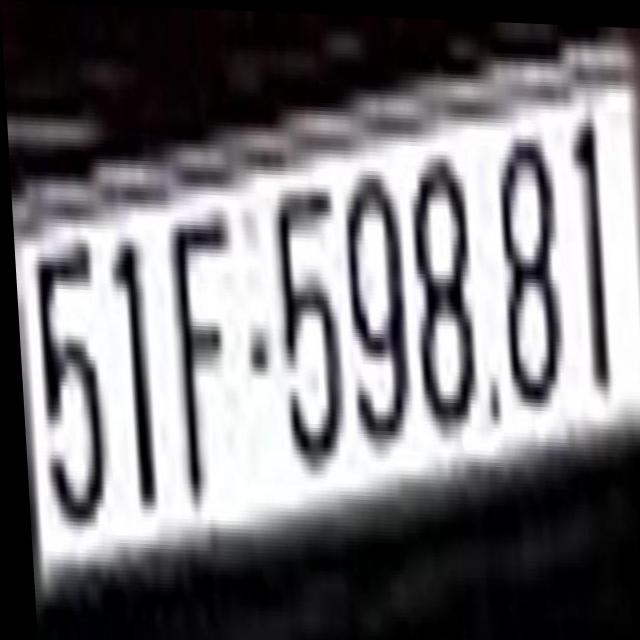1: (568, 109, 614, 405), (110, 240, 155, 509)
5: (28, 233, 101, 522), (271, 187, 344, 469)
8: (487, 121, 562, 410), (407, 157, 473, 431)
9: (339, 159, 405, 440)
F: (164, 203, 236, 485)
